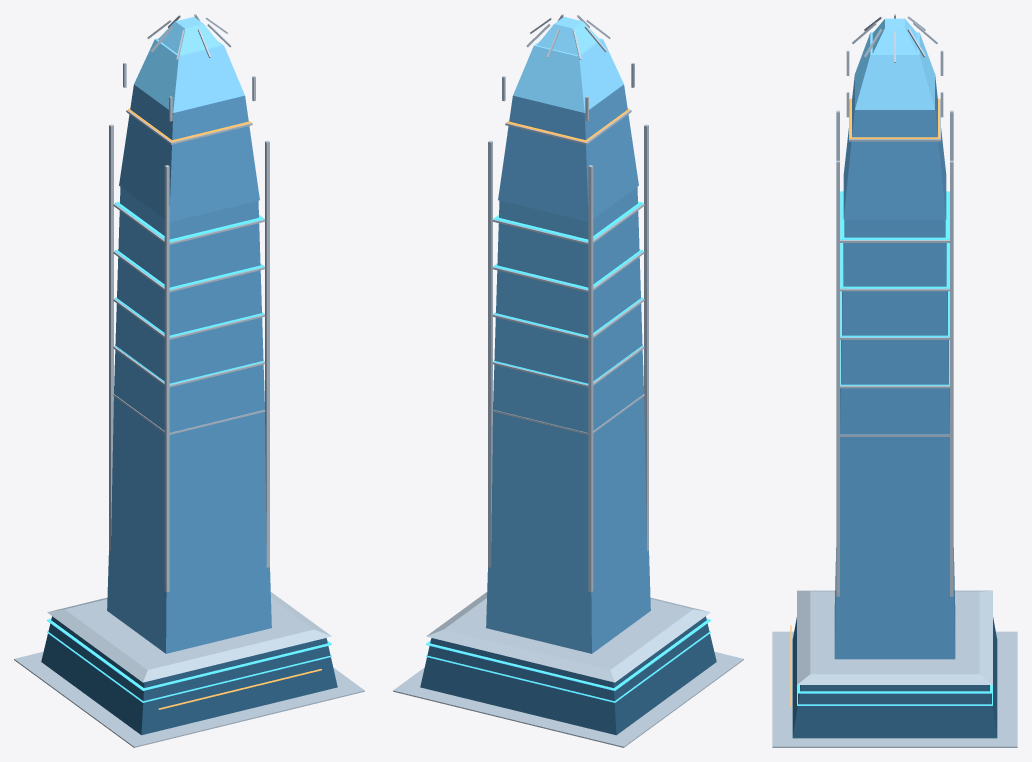
The model's file is cwtc-3a.glb.
3 renders of one model, left to right at view 1: azimuth 30°, elevation 25°; view 2: azimuth 150°, elevation 25°; view 3: azimuth 270°, elevation 25°, orthographic. The views are drawn at different scales.
Visible parts, largest first — view 1: cwtc-3a-glassBlue, cwtc-3a-frame, cwtc-3a-glassDeep, cwtc-3a-crown, cwtc-3a-lightCyan, cwtc-3a-lightWarm; view 2: cwtc-3a-glassBlue, cwtc-3a-frame, cwtc-3a-glassDeep, cwtc-3a-crown, cwtc-3a-lightCyan; view 3: cwtc-3a-glassBlue, cwtc-3a-frame, cwtc-3a-glassDeep, cwtc-3a-crown, cwtc-3a-lightCyan, cwtc-3a-lightWarm.
Boxes of the visible parts, left/top/right/bottom form: cwtc-3a-glassBlue: left=107, top=84, right=271, bottom=653; cwtc-3a-frame: left=14, top=14, right=364, bottom=747; cwtc-3a-glassDeep: left=41, top=616, right=337, bottom=735; cwtc-3a-crown: left=134, top=17, right=244, bottom=112; cwtc-3a-lightCyan: left=47, top=201, right=331, bottom=702; cwtc-3a-lightWarm: left=128, top=108, right=321, bottom=709; cwtc-3a-glassBlue: left=486, top=84, right=650, bottom=653; cwtc-3a-frame: left=393, top=14, right=743, bottom=747; cwtc-3a-glassDeep: left=420, top=616, right=716, bottom=735; cwtc-3a-crown: left=513, top=17, right=623, bottom=112; cwtc-3a-lightCyan: left=426, top=201, right=710, bottom=702; cwtc-3a-glassBlue: left=834, top=74, right=955, bottom=659; cwtc-3a-frame: left=772, top=14, right=1017, bottom=747; cwtc-3a-glassDeep: left=792, top=617, right=997, bottom=738; cwtc-3a-crown: left=855, top=18, right=934, bottom=109; cwtc-3a-lightCyan: left=797, top=191, right=992, bottom=705; cwtc-3a-lightWarm: left=790, top=98, right=939, bottom=707.
Size of the model in its own units: 122 by 330 by 110.
